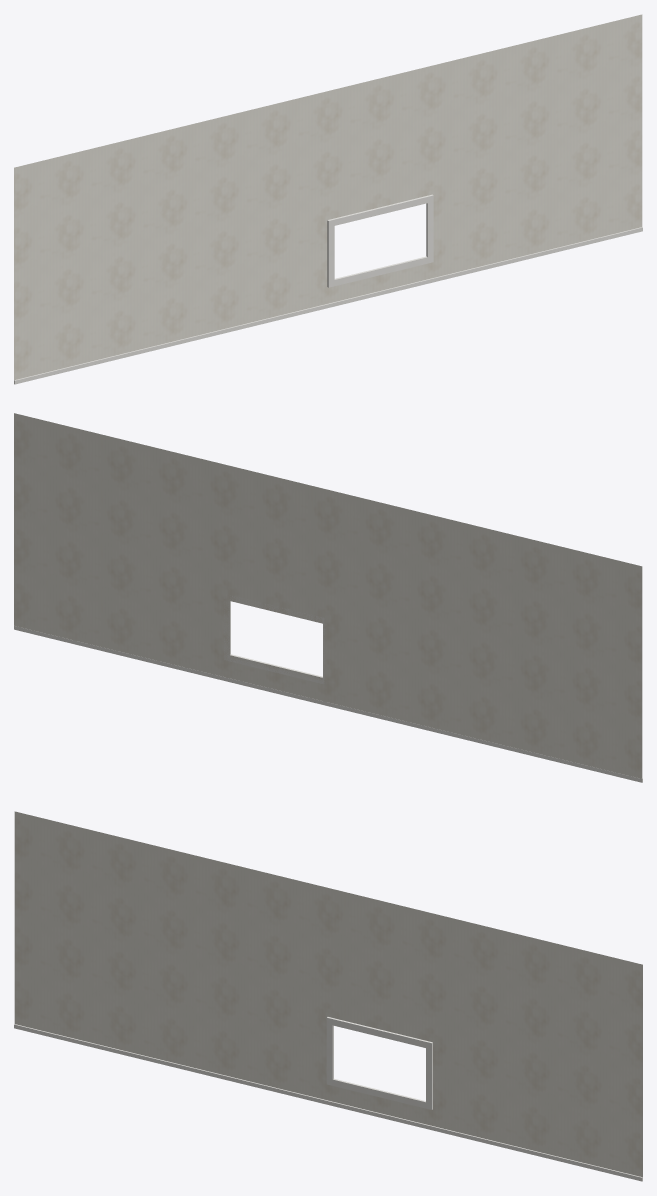
The picture shows the model from 3 angles, top to bottom: view 1: azimuth 30°, elevation 25°; view 2: azimuth 150°, elevation 25°; view 3: azimuth 330°, elevation 25°; orthographic projection.
Visible parts, largest first — view 1: jx_wm_24_3c6029ca; view 2: jx_wm_24_3c6029ca; view 3: jx_wm_24_3c6029ca.
Boxes of the visible parts, x1,y1,x2,y2 form: jx_wm_24_3c6029ca: (14, 14, 642, 384); jx_wm_24_3c6029ca: (14, 413, 642, 782); jx_wm_24_3c6029ca: (14, 811, 642, 1181).
Bounding box in the file's own units: 24.3 × 8 × 0.086.
2 materials, 2 textured.
